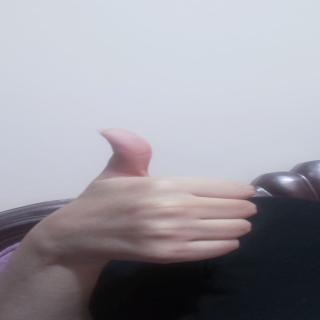ALIF: (24, 126, 267, 273)
